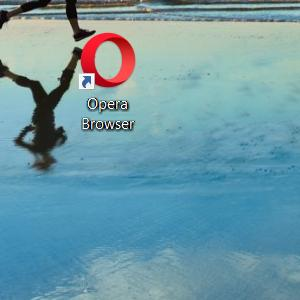opera: (78, 33, 136, 91)
